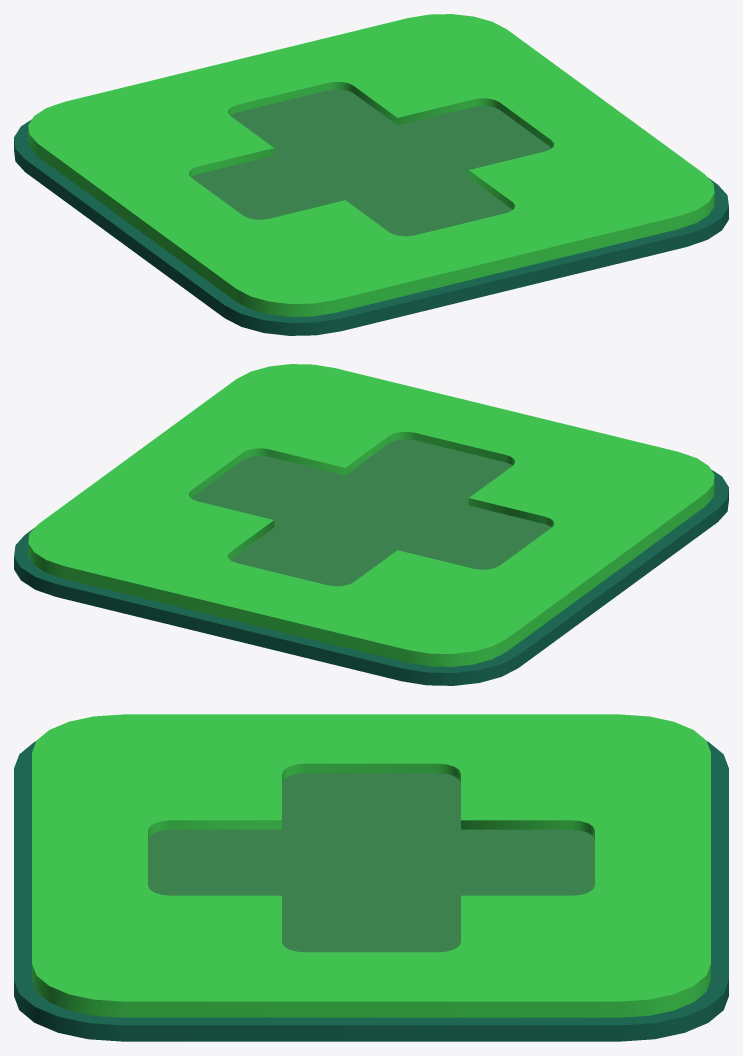
The model's file is Healing_Platform.fbx.
3 renders of one model, top to bottom at view 1: azimuth 30°, elevation 25°; view 2: azimuth 150°, elevation 25°; view 3: azimuth 270°, elevation 25°, orthographic. The views are drawn at different scales.
Visible parts, largest first — view 1: Healing_Platform; view 2: Healing_Platform; view 3: Healing_Platform.
Part boxes in pixels (box(x1,y1,x2,y2)): Healing_Platform: box(14, 14, 728, 335); Healing_Platform: box(14, 364, 728, 685); Healing_Platform: box(14, 714, 728, 1041).
Size of the model in its own units: 4 by 4 by 0.2.
